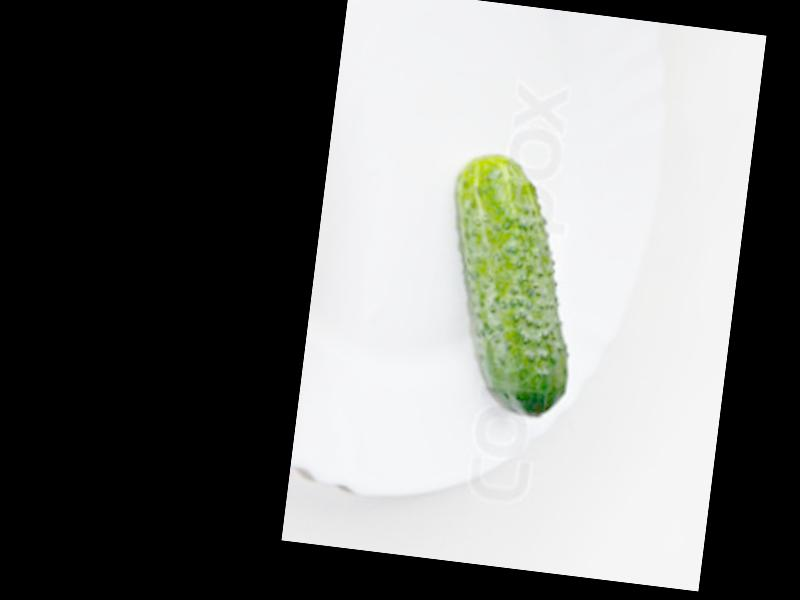Cucumber: (428, 151, 593, 417)
